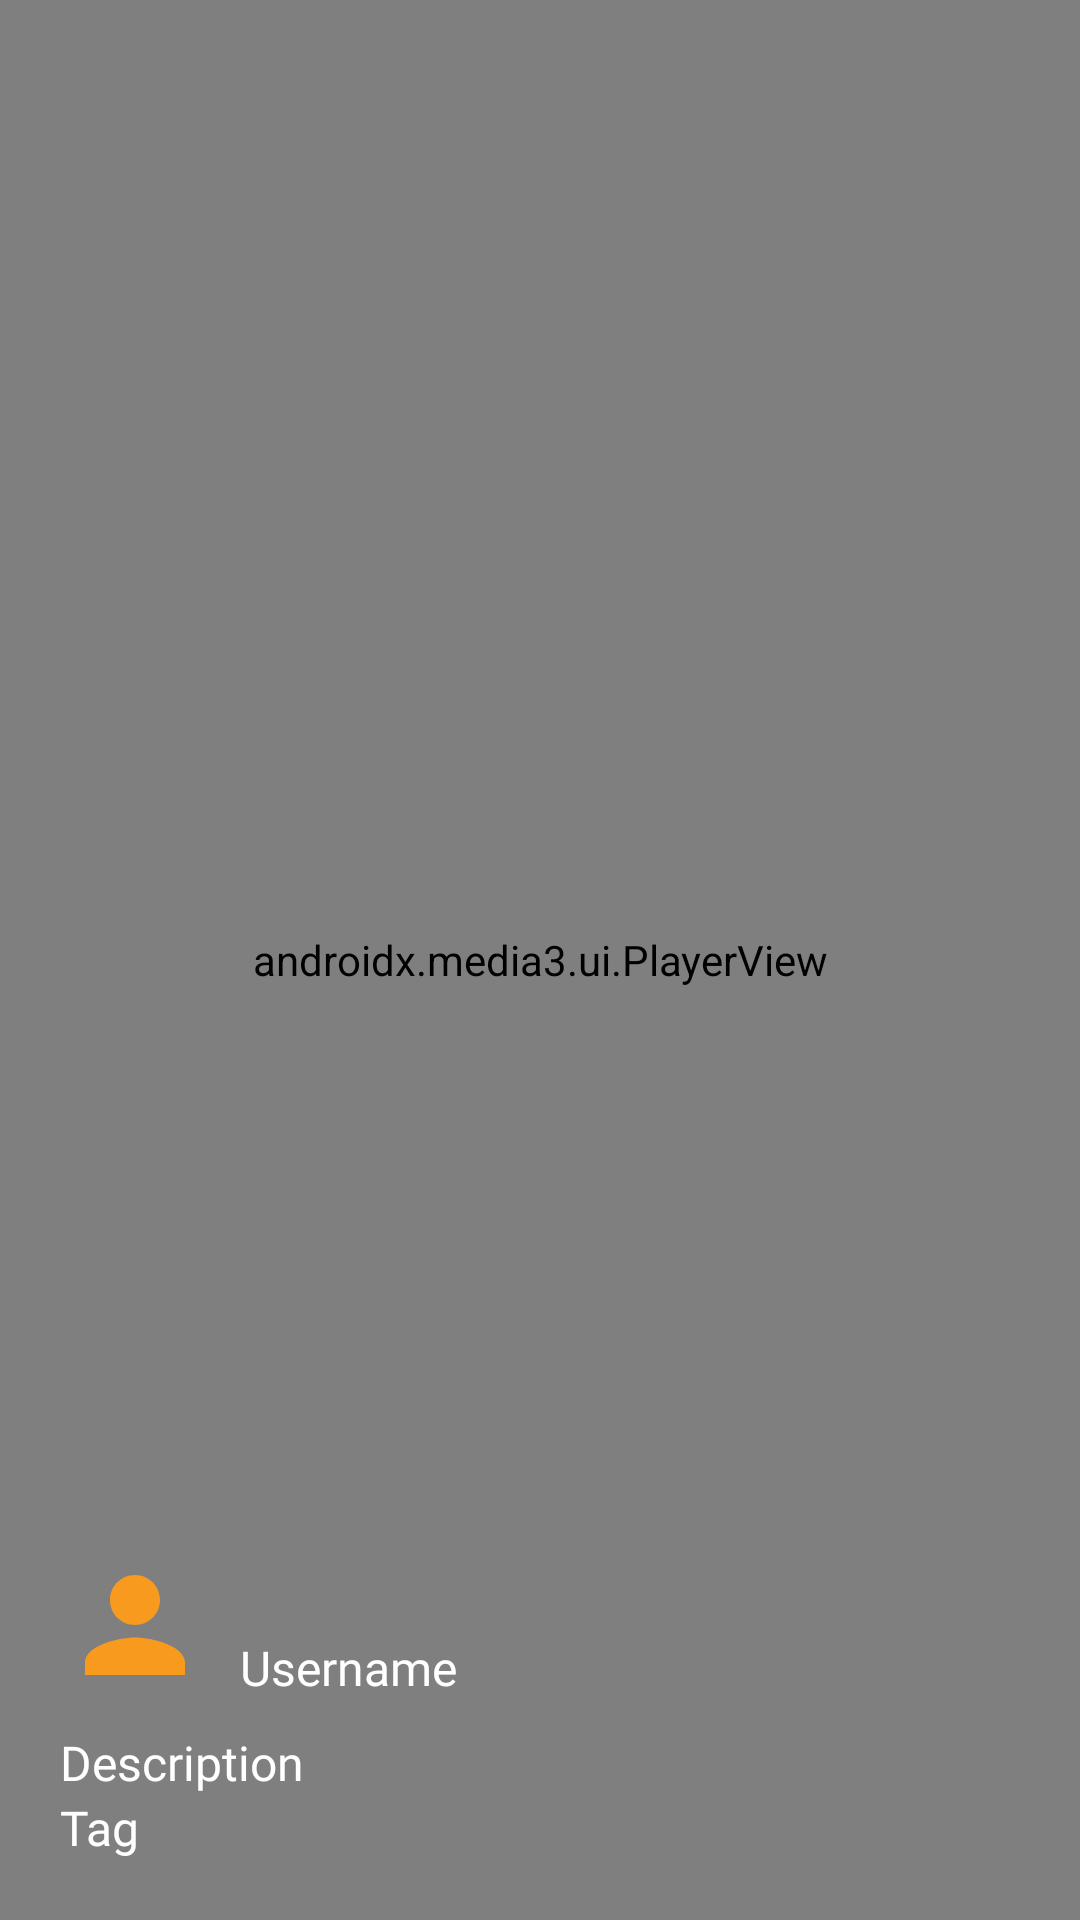

Named icons in this screenshot (1080 × 1920) and their centers, [x,y]:
profile: [135,1625]
